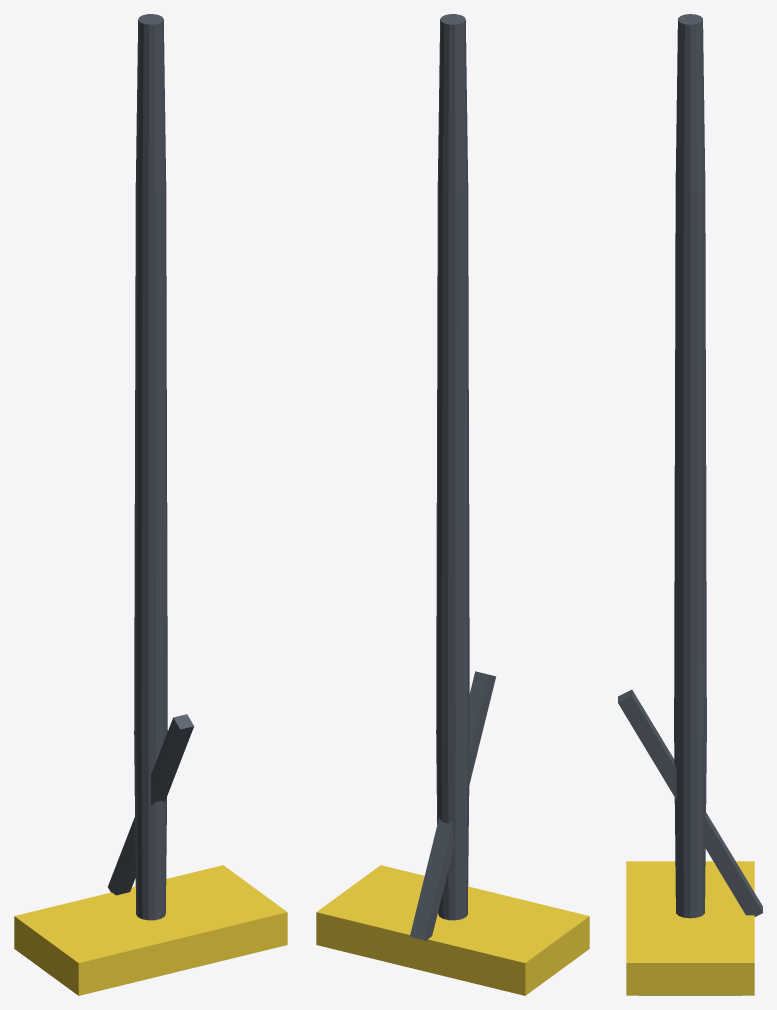
Rendered from broom.glb.
3 views of the same model, side by side, from view 1: azimuth 30°, elevation 25°; view 2: azimuth 150°, elevation 25°; view 3: azimuth 270°, elevation 25° (orthographic).
Visible parts, largest first — view 1: broom_shaft, broom_head, broom_brace; view 2: broom_shaft, broom_head, broom_brace; view 3: broom_shaft, broom_head, broom_brace.
Part boxes in pixels (bbox=[...]): broom_shaft: bbox=[134, 14, 167, 920]; broom_head: bbox=[14, 865, 287, 995]; broom_brace: bbox=[108, 714, 194, 895]; broom_shaft: bbox=[436, 14, 469, 920]; broom_head: bbox=[316, 865, 589, 995]; broom_brace: bbox=[410, 671, 496, 940]; broom_shaft: bbox=[674, 14, 706, 918]; broom_head: bbox=[626, 861, 754, 995]; broom_brace: bbox=[618, 689, 762, 916].
Size of the model in its own units: 0.3 by 1.28 by 0.1806.
